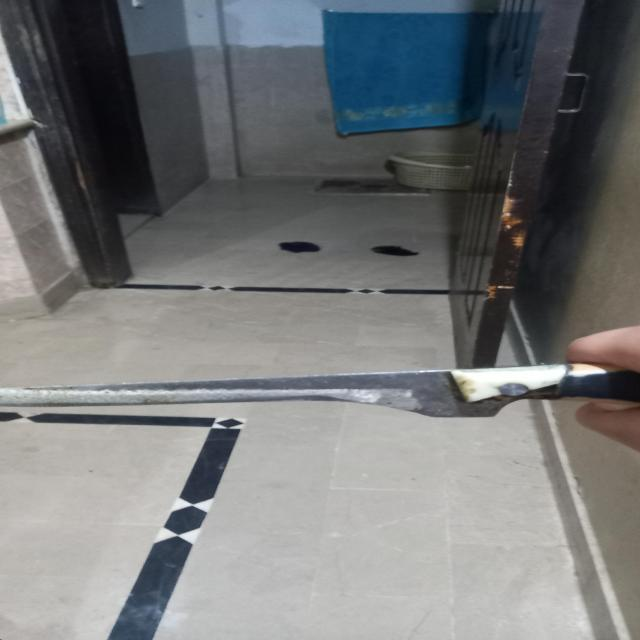Knife: (0, 358, 640, 419)
Person: (575, 322, 640, 452)
